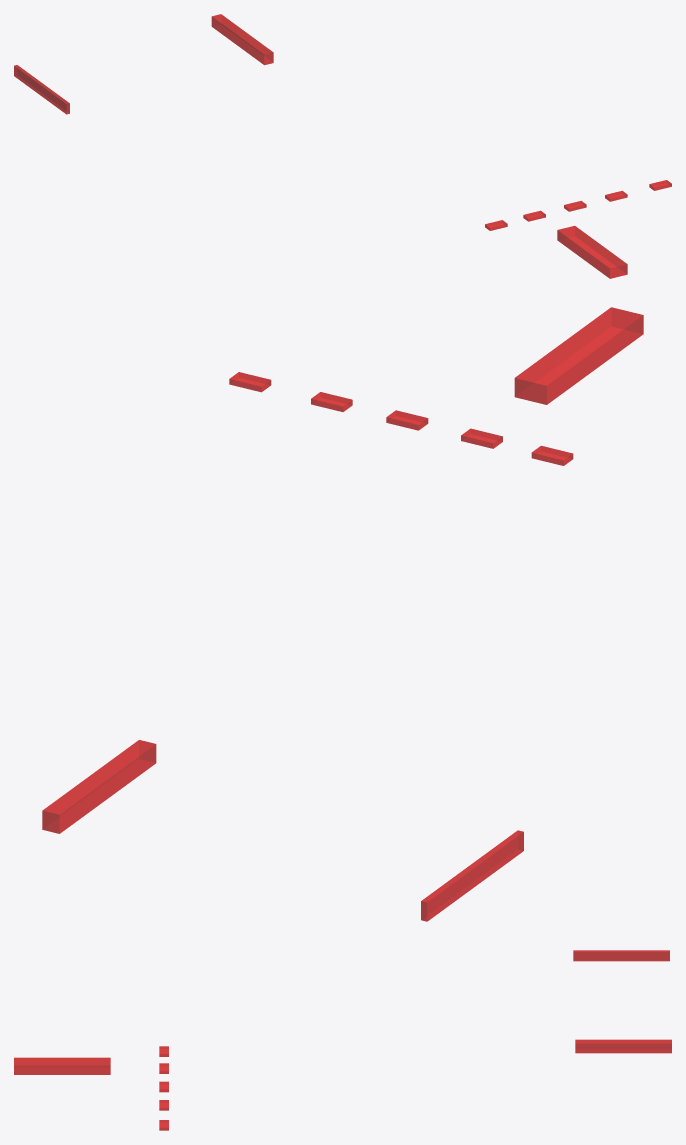
Rendered from Track4_Stadium_s.fbx.
3 renders of one model, top to bottom at view 1: azimuth 30°, elevation 25°; view 2: azimuth 150°, elevation 25°; view 3: azimuth 270°, elevation 25°, orthographic. The views are drawn at different scales.
Parts seen in each view (by area): view 1: polySurface1; view 2: polySurface1; view 3: polySurface1.
Part boxes in pixels (box(x1,y1,x2,y2)): polySurface1: box(14, 14, 671, 278); polySurface1: box(42, 307, 643, 921); polySurface1: box(14, 950, 671, 1130).
Size of the model in its own units: 5502 by 146 by 8971.
